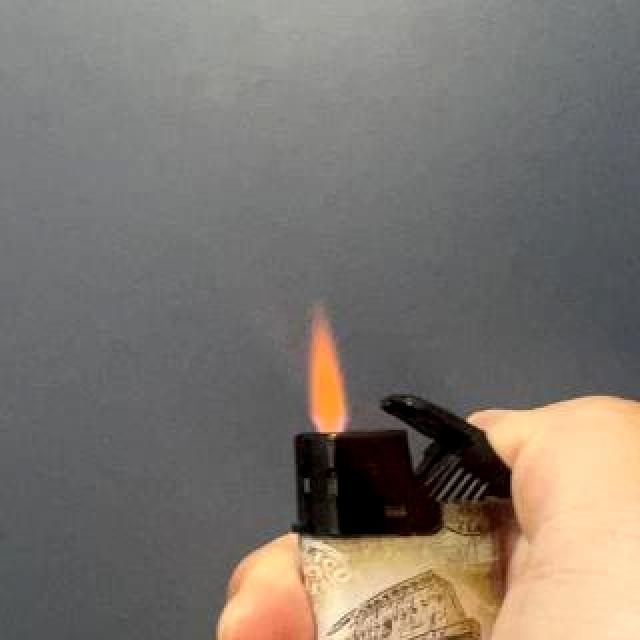fire: (295, 303, 351, 437)
